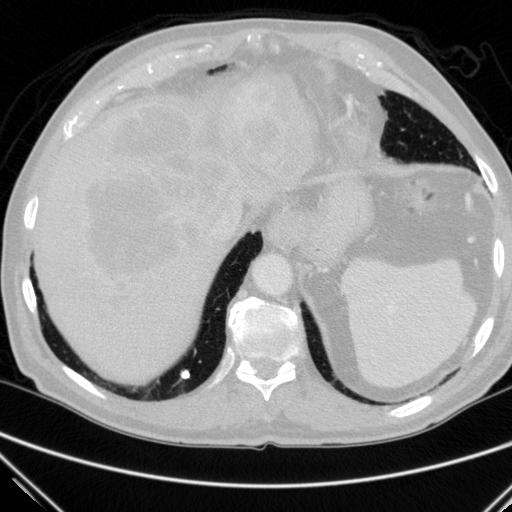nodule: (177, 367, 192, 382)
